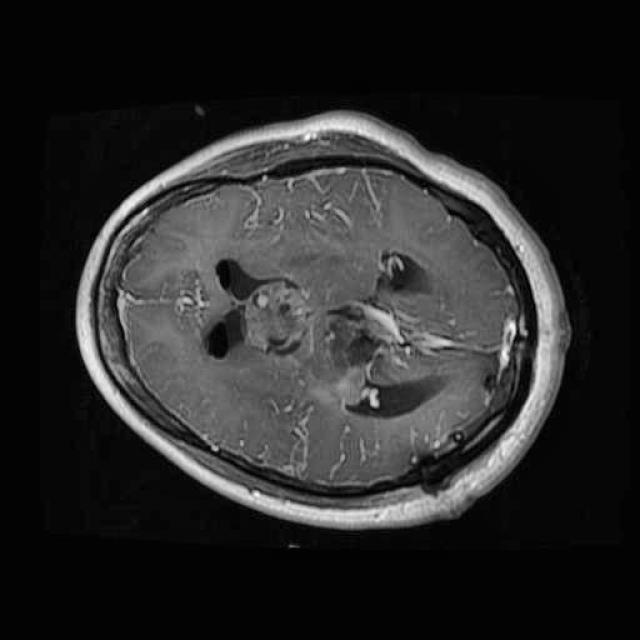Tumor: (230, 268, 428, 416)
